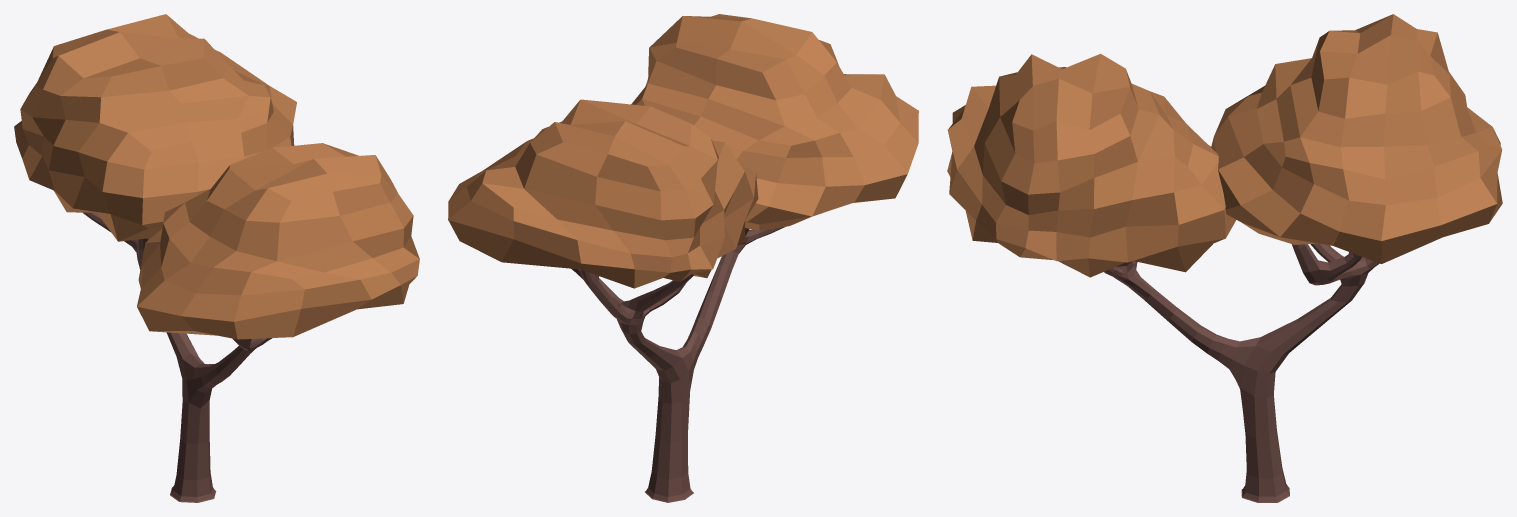
The model's file is commontree_autumn_1.glb.
3 views of the same model, side by side, from view 1: azimuth 30°, elevation 25°; view 2: azimuth 150°, elevation 25°; view 3: azimuth 270°, elevation 25° (orthographic). The views are drawn at different scales.
Visible parts, largest first — view 1: CommonTree_Autumn_1; view 2: CommonTree_Autumn_1; view 3: CommonTree_Autumn_1.
Boxes of the visible parts, x1=… form: CommonTree_Autumn_1: x1=14, y1=14, x2=419, y2=502; CommonTree_Autumn_1: x1=448, y1=14, x2=918, y2=502; CommonTree_Autumn_1: x1=947, y1=14, x2=1502, y2=502.
Size of the model in its own units: 1.89 by 2.48 by 2.77.
